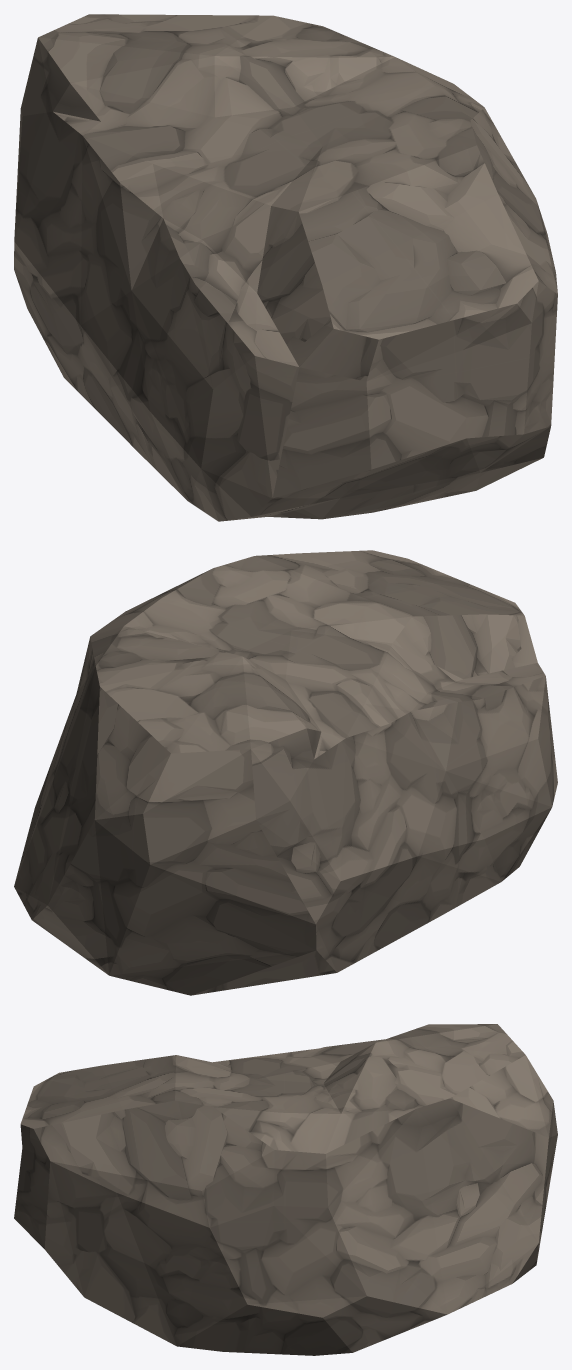
File: source.gltf
3 views of the same model, one above another, from view 1: azimuth 30°, elevation 25°; view 2: azimuth 150°, elevation 25°; view 3: azimuth 270°, elevation 25° (orthographic). The views are drawn at different scales.
Visible parts, largest first — view 1: SM_Rock_Small_01; view 2: SM_Rock_Small_01; view 3: SM_Rock_Small_01.
Boxes of the visible parts, <box> form: SM_Rock_Small_01: <box>14,14,557,521</box>; SM_Rock_Small_01: <box>14,550,557,995</box>; SM_Rock_Small_01: <box>14,1024,557,1355</box>.
Size of the model in its own units: 0.8574 by 0.6752 by 1.32.
Materials: 1 (1 with a texture image).
